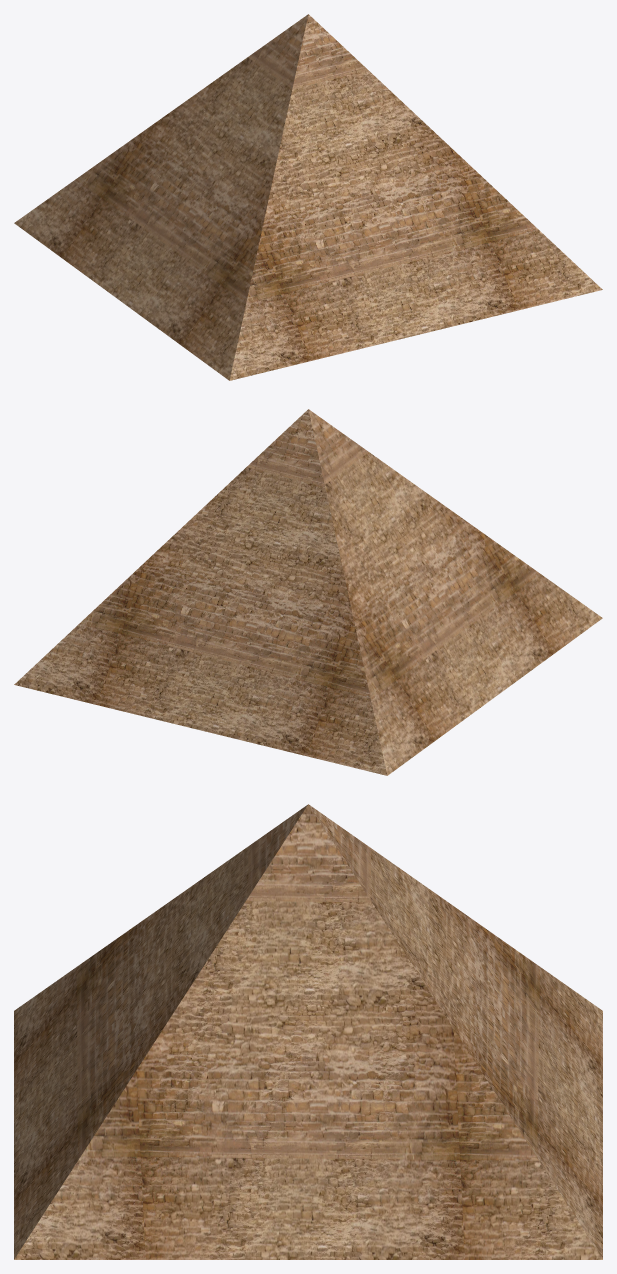
3 renders of one model, top to bottom at view 1: azimuth 30°, elevation 25°; view 2: azimuth 150°, elevation 25°; view 3: azimuth 270°, elevation 25°, orthographic. The views are drawn at different scales.
Parts seen in each view (by area): view 1: pCube1_lambert2_0; view 2: pCube1_lambert2_0; view 3: pCube1_lambert2_0.
Boxes of the visible parts, bbox=[...] form: pCube1_lambert2_0: bbox=[14, 14, 602, 380]; pCube1_lambert2_0: bbox=[14, 409, 602, 775]; pCube1_lambert2_0: bbox=[14, 804, 602, 1259].
Bounding box in the file's own units: 12.34 × 7.66 × 12.34.
Materials: 1 (1 with a texture image).
